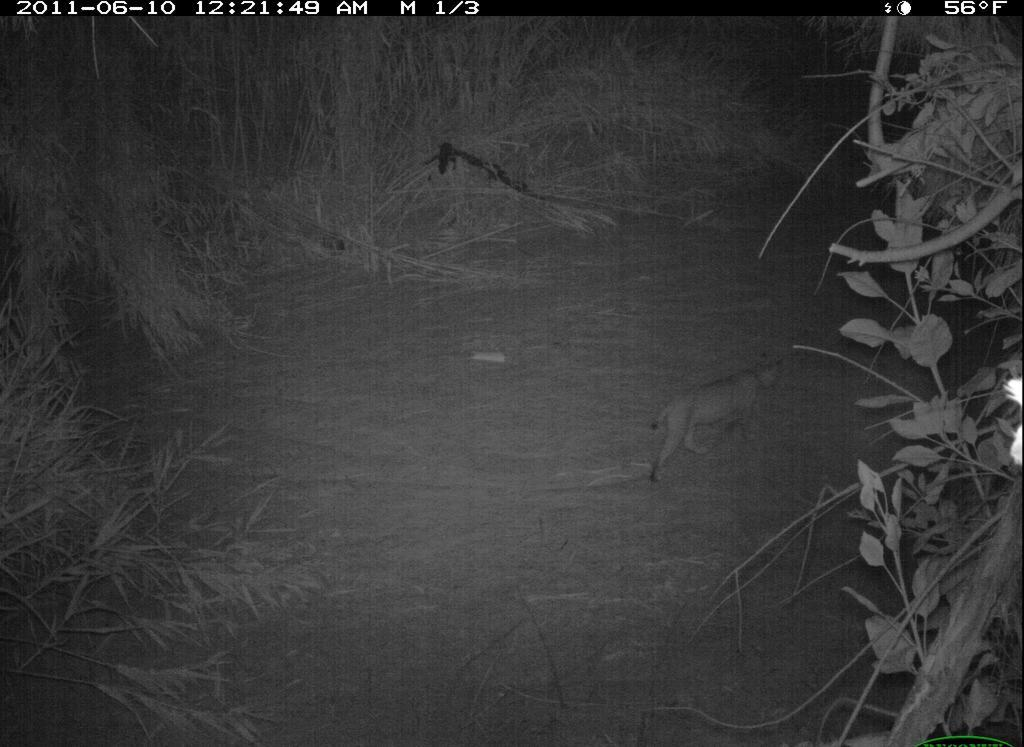bobcat: (634, 351, 794, 489)
